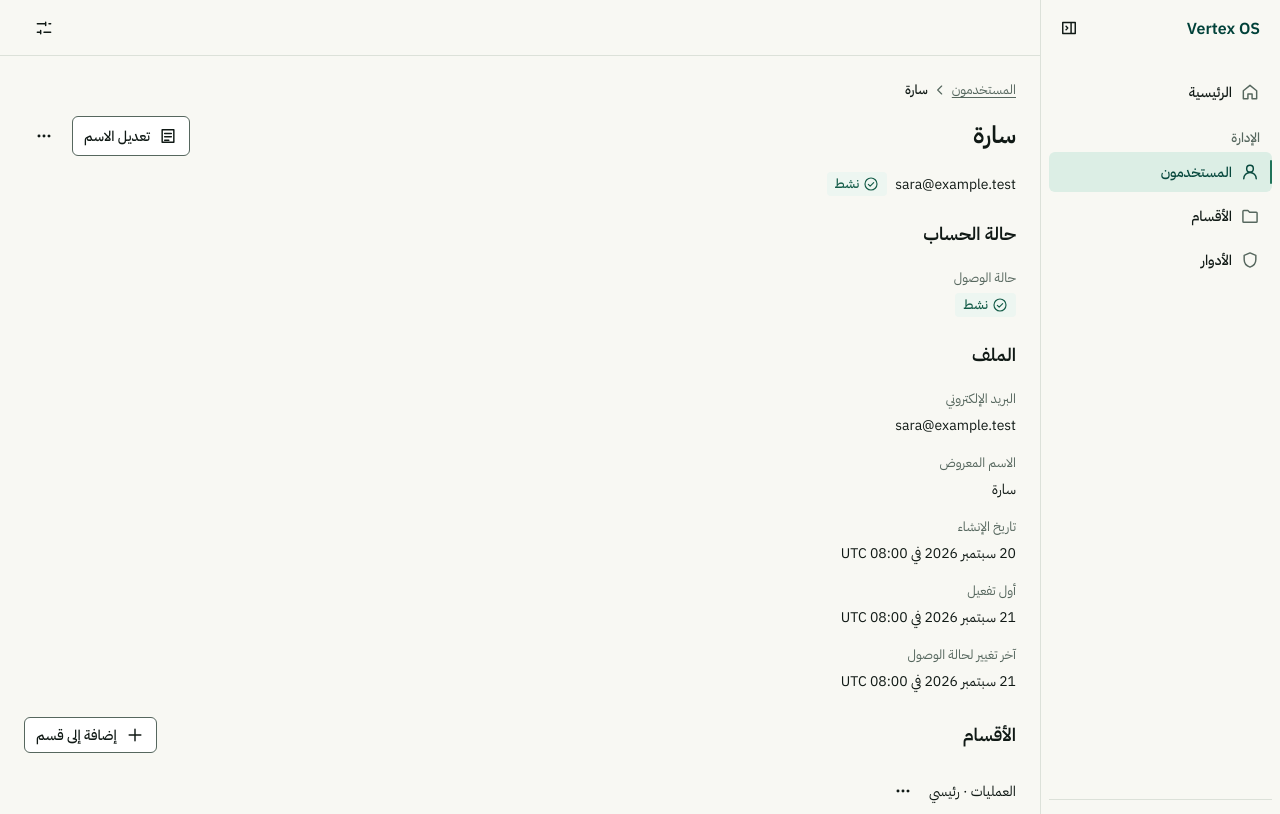
it: the user detail › reports local session revocation
Step 1. Click the button named "إجراءات المستخدم" → coordinates (44, 136), box [24, 116, 64, 156]
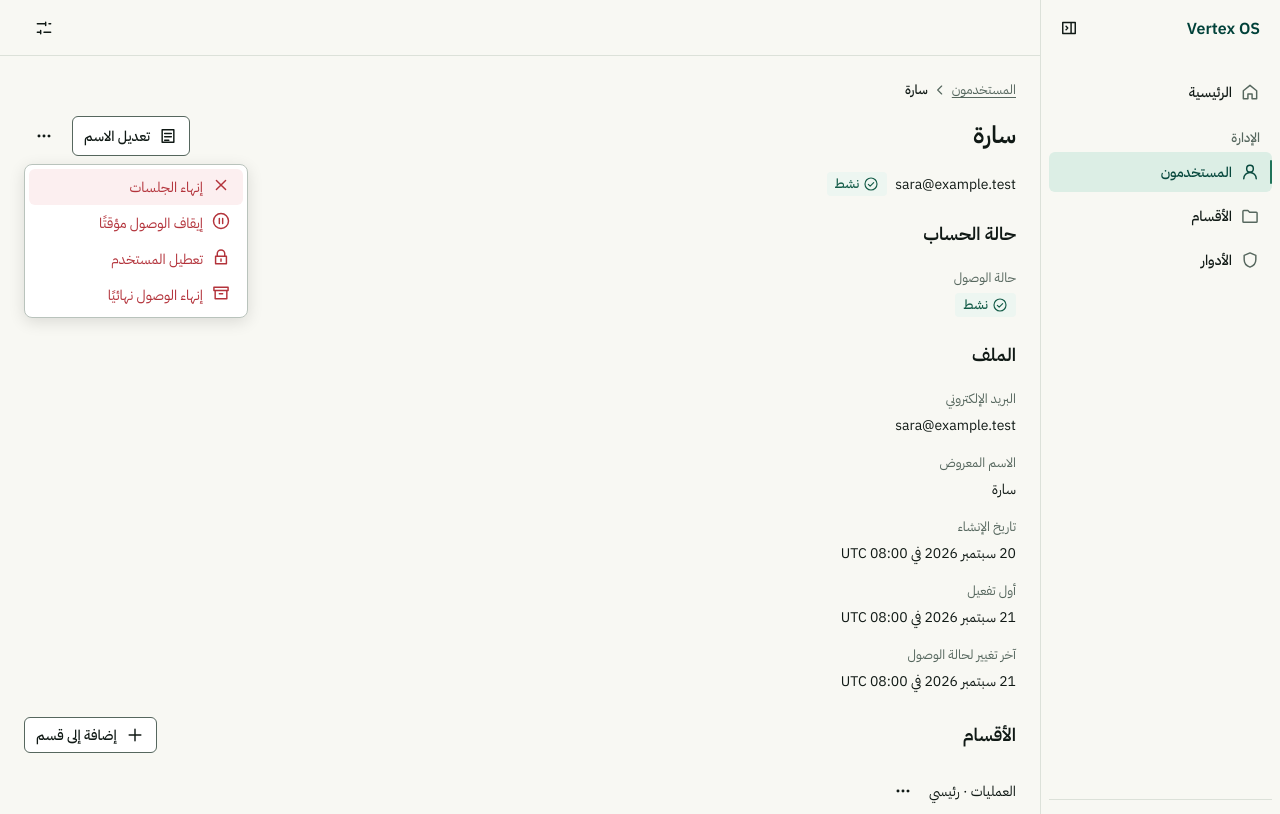
Step 2. Click the menu item "إنهاء الجلسات" → coordinates (136, 187), box [29, 169, 243, 205]
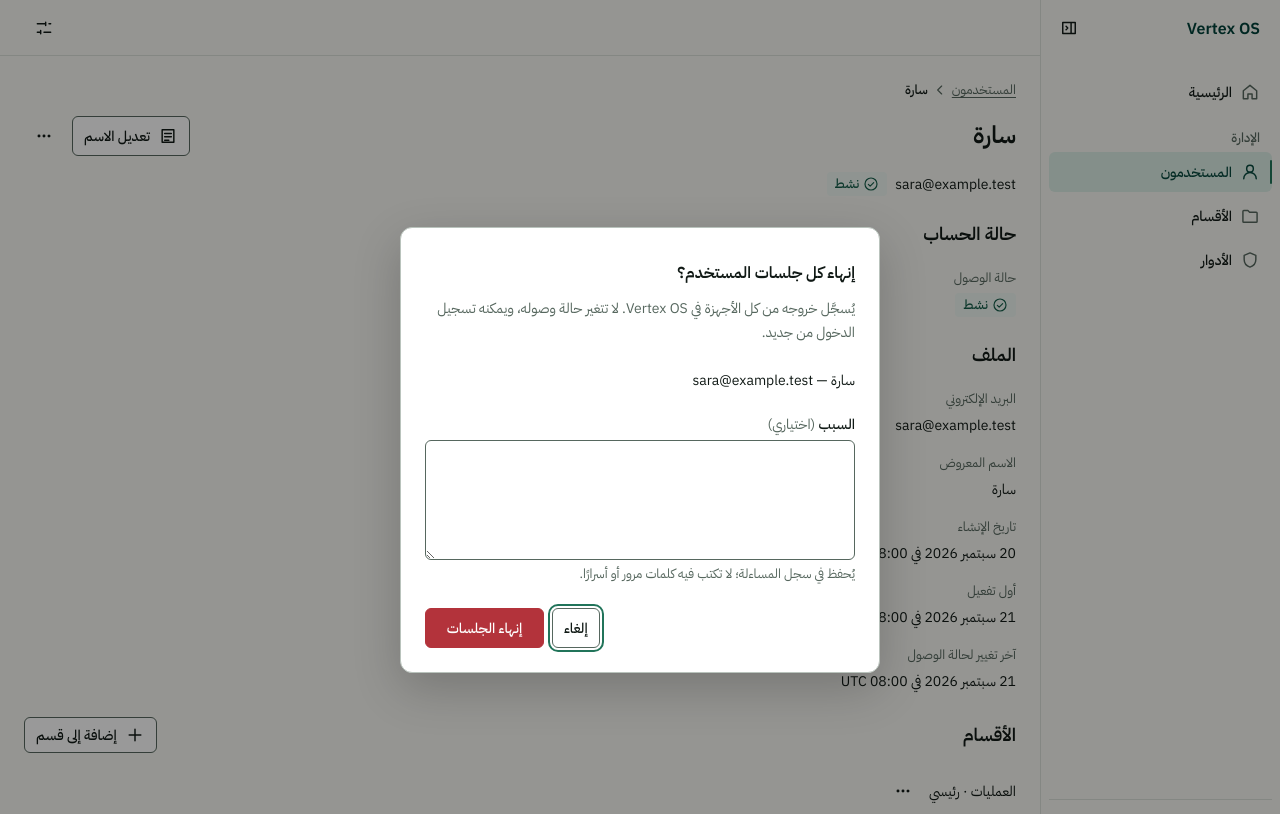
Now the dialog shows "لا تتغير حالة وصوله", box [437, 299, 855, 341]
Step 3. Click the button "إنهاء الجلسات" → coordinates (484, 628), box [425, 608, 544, 648]
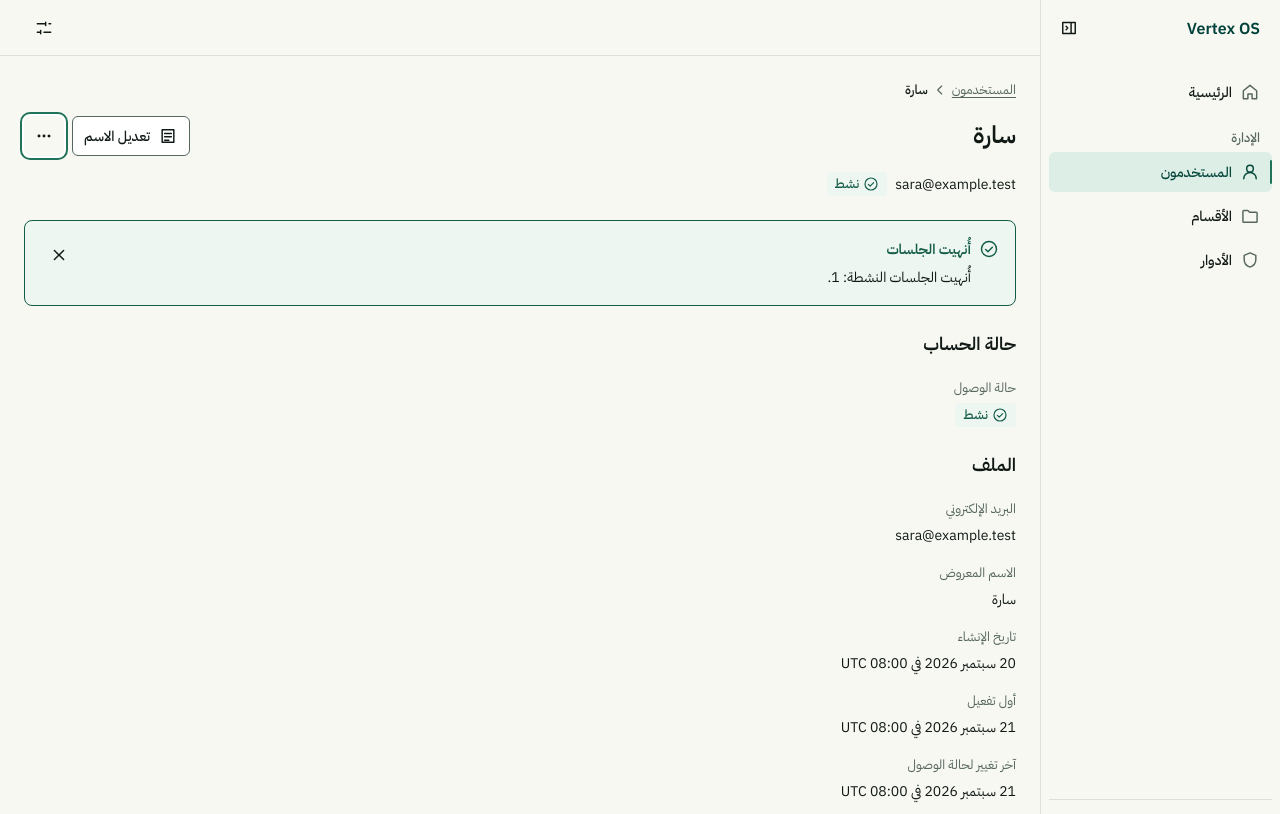
Now the text "أُنهيت الجلسات النشطة: 1." is shown, box [828, 268, 971, 286]
